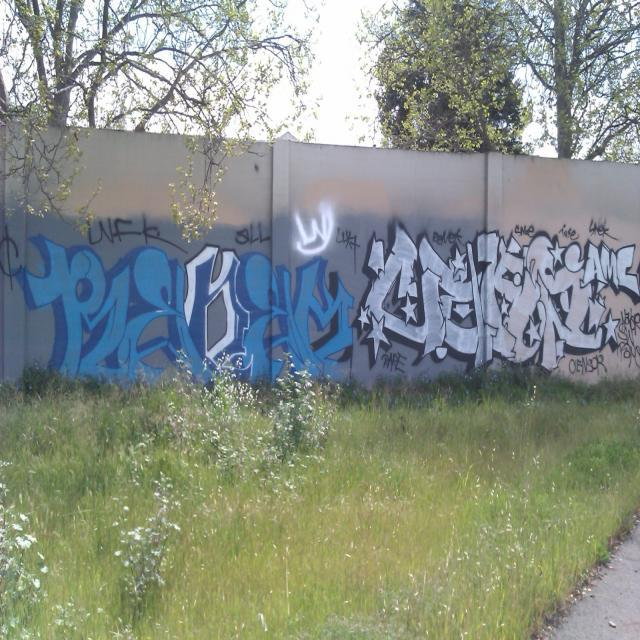-: (18, 236, 356, 383), (359, 218, 640, 376), (84, 212, 186, 248), (295, 206, 355, 254), (0, 222, 22, 285), (234, 222, 266, 248)
